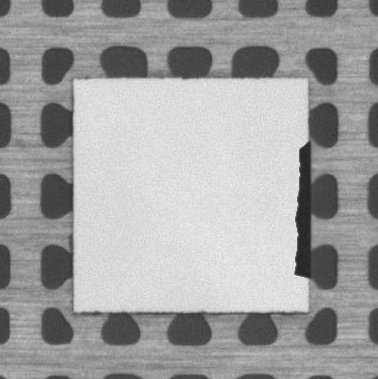DIE_BROKEN: (292, 143, 313, 285)
